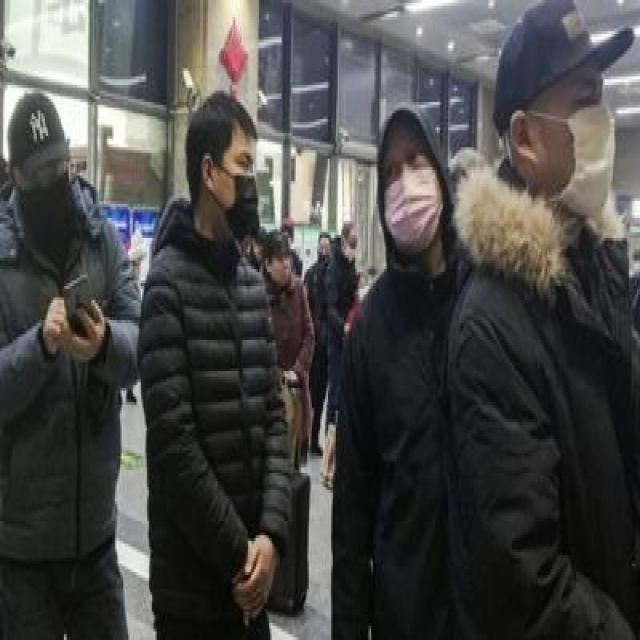with_mask: (537, 89, 617, 219), (382, 148, 444, 256), (19, 162, 72, 242), (215, 148, 262, 233), (343, 225, 358, 264), (356, 273, 371, 301), (318, 239, 332, 264)
without_mask: (272, 250, 291, 290)
